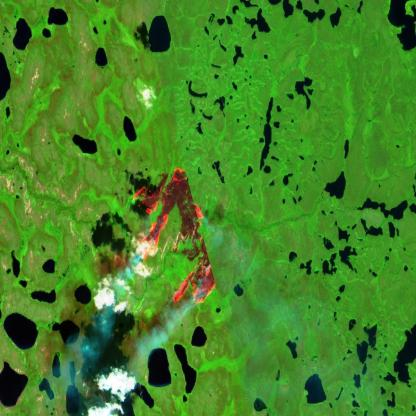fire: (127, 164, 216, 315)
